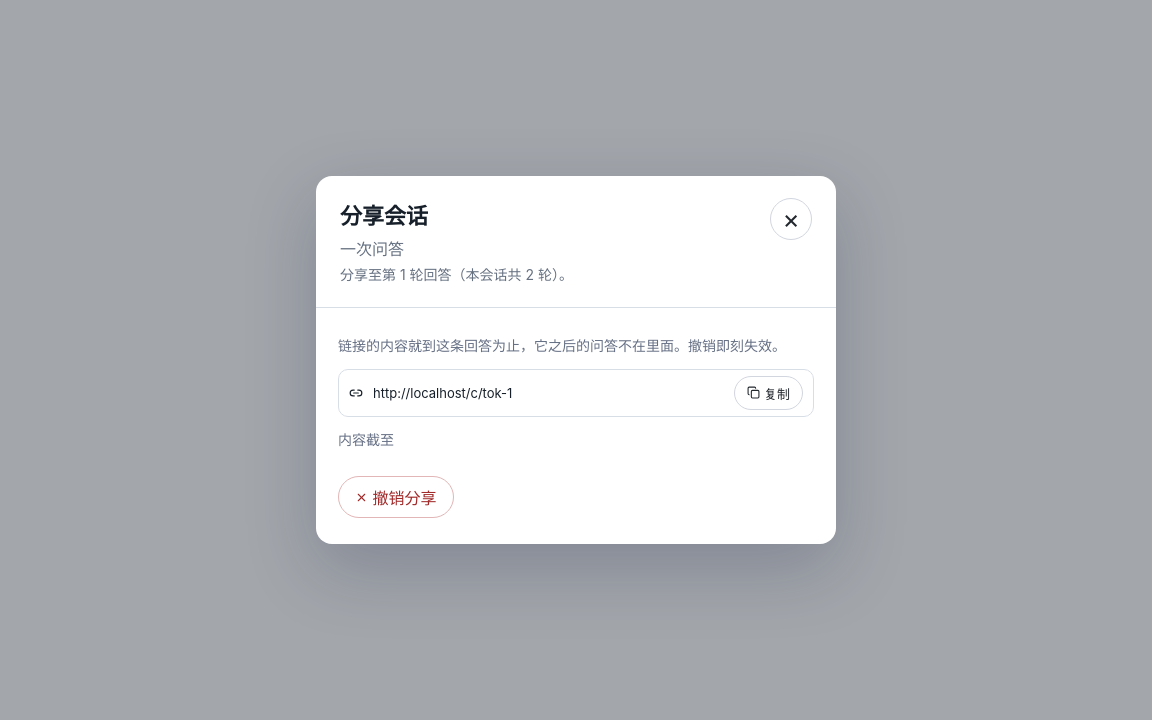
it: codex #530 R3 P1：复制前复核水位，别处已推进则刷新并拦下这次复制
Expected: the text "链接的内容就到这条回答为止，它之后的问答不在里面。撤销即刻失效。" is shown, top-left (338, 335), bottom-right (814, 357)
Click the button "复制": (769, 393) top-left (734, 376), bottom-right (803, 410)
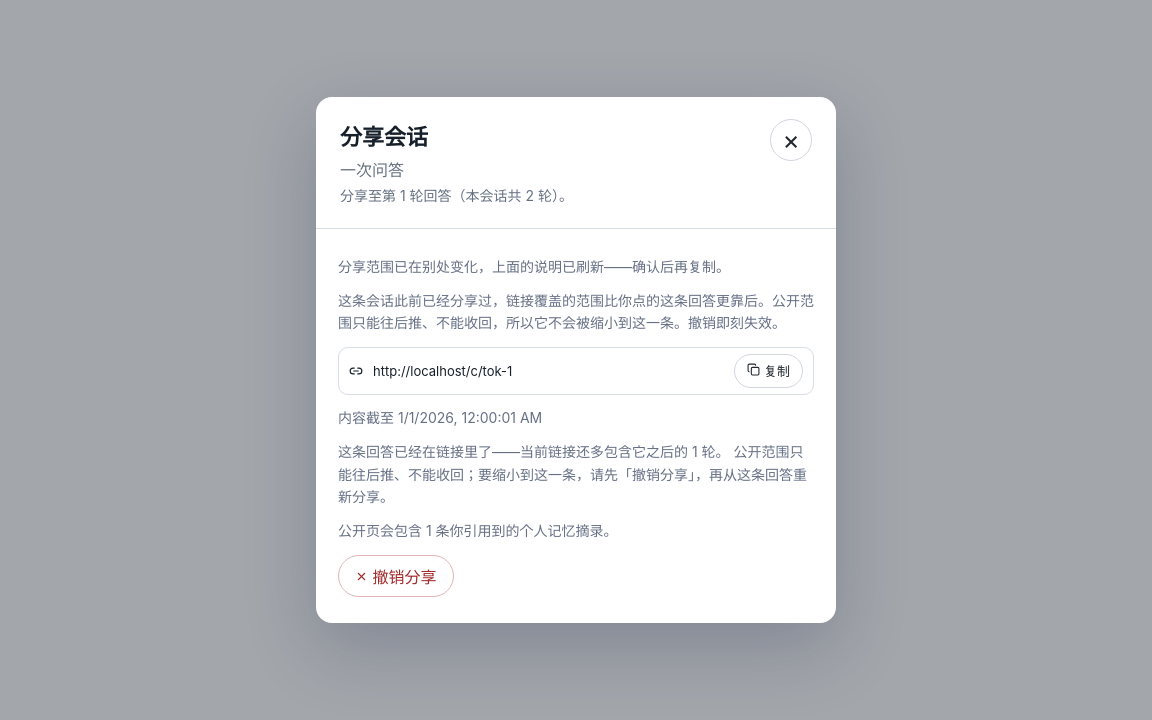
Now the text "分享范围已在别处变化，上面的说明已刷新——确认后再复制。" is shown, box top-left (338, 258), bottom-right (730, 275)
Now the text "这条回答已经在链接里了" is shown, box top-left (338, 443), bottom-right (692, 460)
